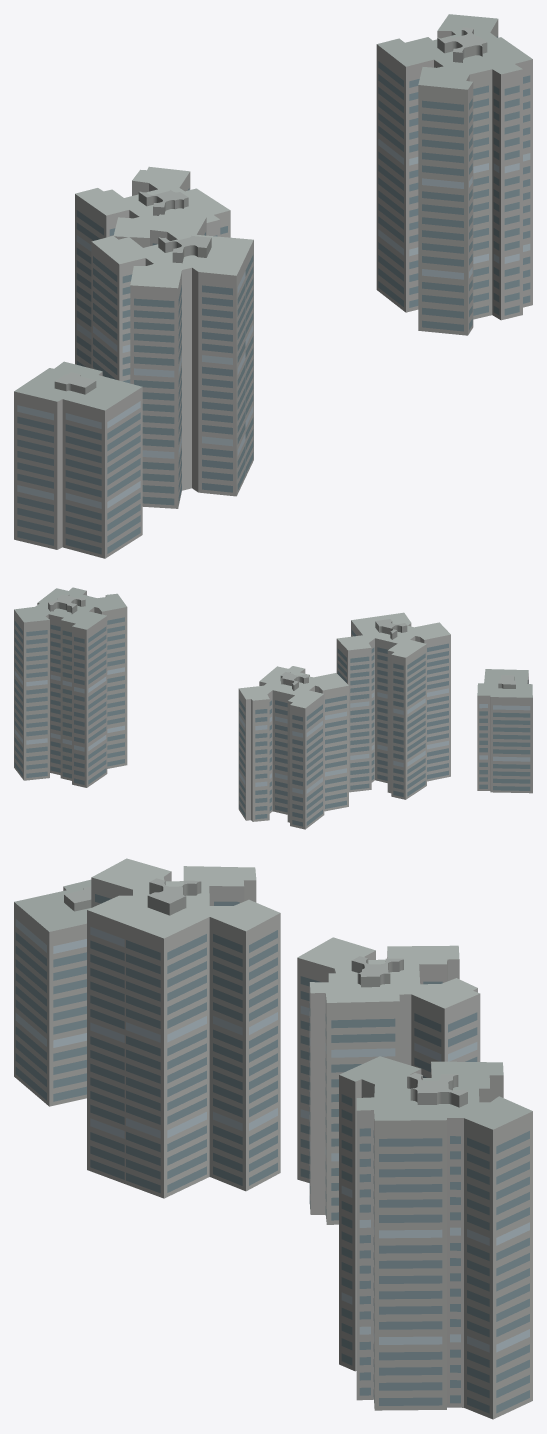
The model's file is apt-a10028000.glb.
3 views of the same model, one above another, from view 1: azimuth 30°, elevation 25°; view 2: azimuth 150°, elevation 25°; view 3: azimuth 270°, elevation 25° (orthographic). The views are drawn at different scales.
Parts seen in each view (by area): view 1: apt-a10028000; view 2: apt-a10028000; view 3: apt-a10028000.
Boxes of the visible parts, left/top/right/bottom form: apt-a10028000: left=14, top=14, right=532, bottom=558; apt-a10028000: left=14, top=587, right=532, bottom=829; apt-a10028000: left=14, top=858, right=532, bottom=1419.
Bounding box in the file's own units: 161 × 61 × 95.13.
